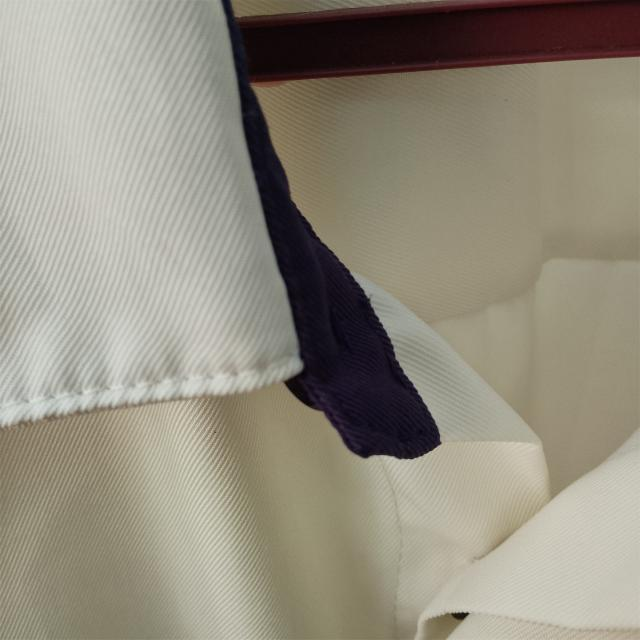education_male_uniform: (0, 0, 566, 532)
